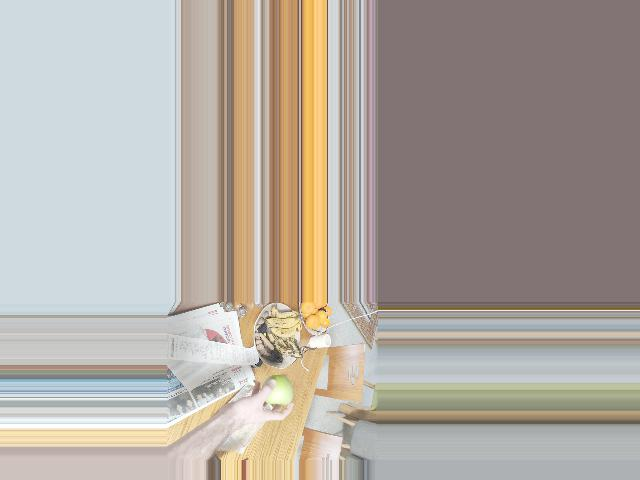apple: (258, 376, 294, 405)
